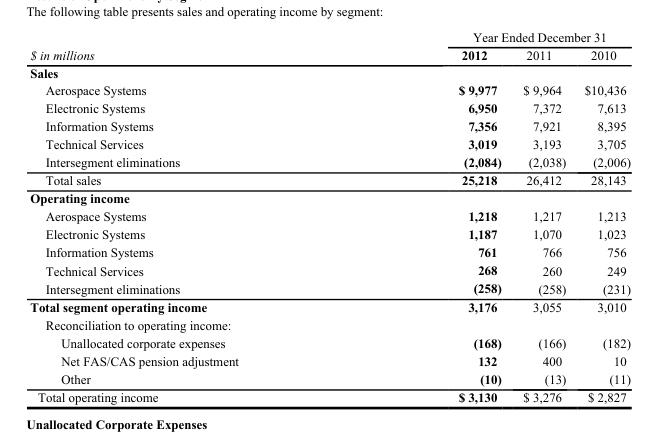table: (29, 29, 630, 403)
table column: (29, 29, 347, 403), (347, 29, 511, 403), (511, 29, 574, 403), (574, 29, 630, 403)
table column header: (29, 29, 630, 63)
table projected row header: (29, 188, 630, 206), (29, 315, 630, 333), (29, 63, 630, 80)
table row: (29, 242, 630, 261), (29, 45, 630, 63), (29, 80, 630, 98), (29, 98, 630, 116), (29, 116, 630, 134), (29, 134, 630, 152), (29, 152, 630, 170), (29, 170, 630, 188), (29, 188, 630, 206), (29, 206, 630, 224), (29, 224, 630, 242), (29, 261, 630, 279), (29, 279, 630, 297), (29, 297, 630, 315), (29, 315, 630, 333), (29, 333, 630, 351), (29, 351, 630, 369), (29, 369, 630, 387), (29, 63, 630, 80), (29, 29, 630, 45), (29, 387, 630, 403)
table spanning cell: (29, 29, 347, 63), (347, 29, 630, 45)
